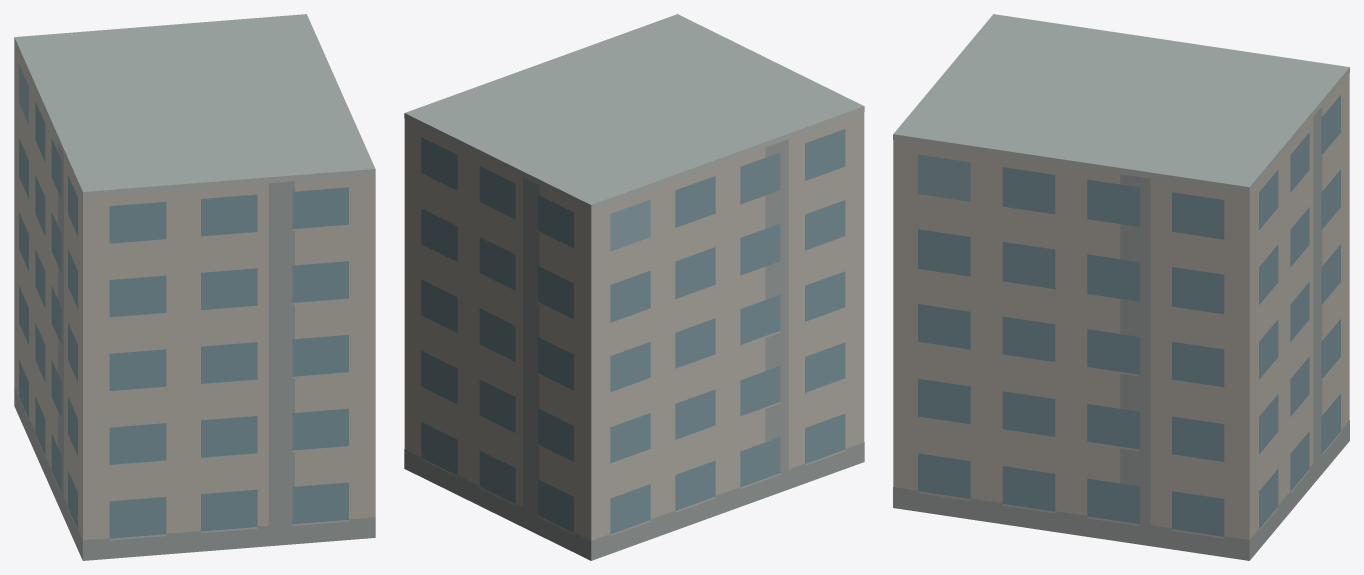
Rendered from residential-78babe19-5156-49d4-8716-ce5261c957db.glb.
The picture shows the model from 3 angles, left to right: view 1: azimuth 30°, elevation 25°; view 2: azimuth 150°, elevation 25°; view 3: azimuth 270°, elevation 25°; orthographic projection. The views are drawn at different scales.
Visible parts, largest first — view 1: residential-78babe19-5156-49d4-8716-ce5261c957db.tmp; view 2: residential-78babe19-5156-49d4-8716-ce5261c957db.tmp; view 3: residential-78babe19-5156-49d4-8716-ce5261c957db.tmp.
Part boxes in pixels (left/top/right/bottom): residential-78babe19-5156-49d4-8716-ce5261c957db.tmp: left=14, top=14, right=375, bottom=560; residential-78babe19-5156-49d4-8716-ce5261c957db.tmp: left=404, top=14, right=864, bottom=560; residential-78babe19-5156-49d4-8716-ce5261c957db.tmp: left=893, top=14, right=1349, bottom=560.
Size of the model in its own units: 15.17 by 15.25 by 16.9.
